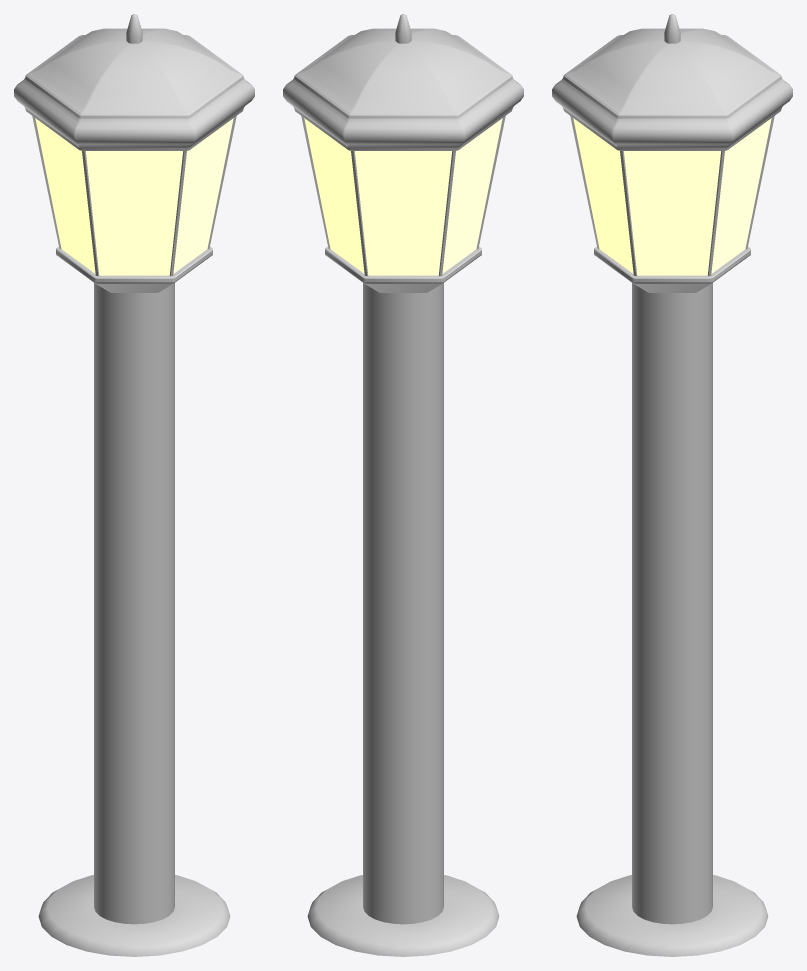
Rendered from Floor_Lamp.glb.
3 views of the same model, side by side, from view 1: azimuth 30°, elevation 25°; view 2: azimuth 150°, elevation 25°; view 3: azimuth 270°, elevation 25° (orthographic).
Parts seen in each view (by area): view 1: Summer_Terrace_Floor_Lamp_2; view 2: Summer_Terrace_Floor_Lamp_2; view 3: Summer_Terrace_Floor_Lamp_2.
Part boxes in pixels (x1=…): Summer_Terrace_Floor_Lamp_2: x1=14, y1=14, x2=254, y2=956; Summer_Terrace_Floor_Lamp_2: x1=283, y1=14, x2=523, y2=956; Summer_Terrace_Floor_Lamp_2: x1=552, y1=14, x2=792, y2=956.
Size of the model in its own units: 0.2494 by 1.18 by 0.2861.
